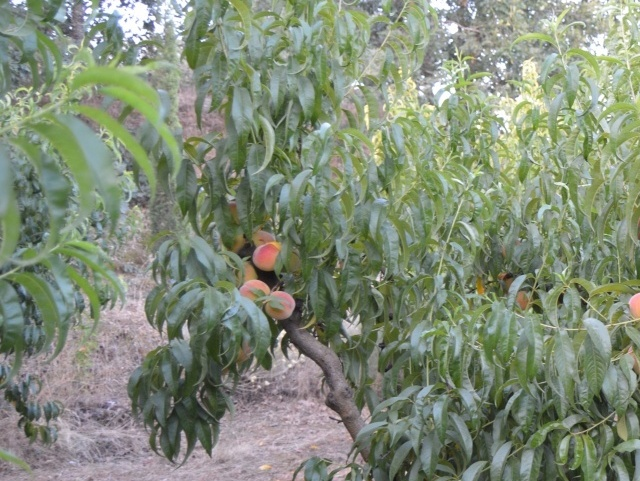peach: (263, 287, 299, 323), (236, 279, 274, 309), (251, 241, 285, 274), (249, 228, 280, 253)
